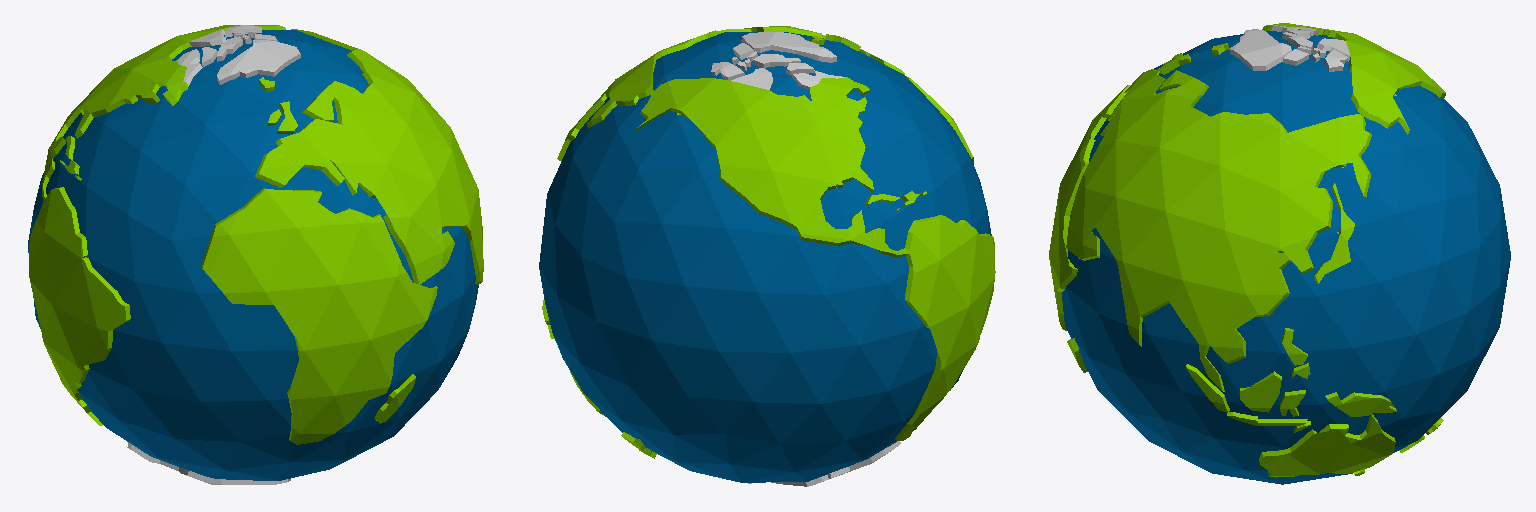
The model's file is earth.obj.
3 renders of one model, left to right at view 1: azimuth 30°, elevation 25°; view 2: azimuth 150°, elevation 25°; view 3: azimuth 270°, elevation 25°, orthographic.
Parts seen in each view (by area): view 1: Earth; view 2: Earth; view 3: Earth.
Boxes of the visible parts, box(x1,y1,x2,y2) form: Earth: box(28, 25, 483, 484); Earth: box(539, 26, 995, 486); Earth: box(1049, 23, 1510, 484).
Size of the model in its own units: 25.25 by 25.28 by 24.99.